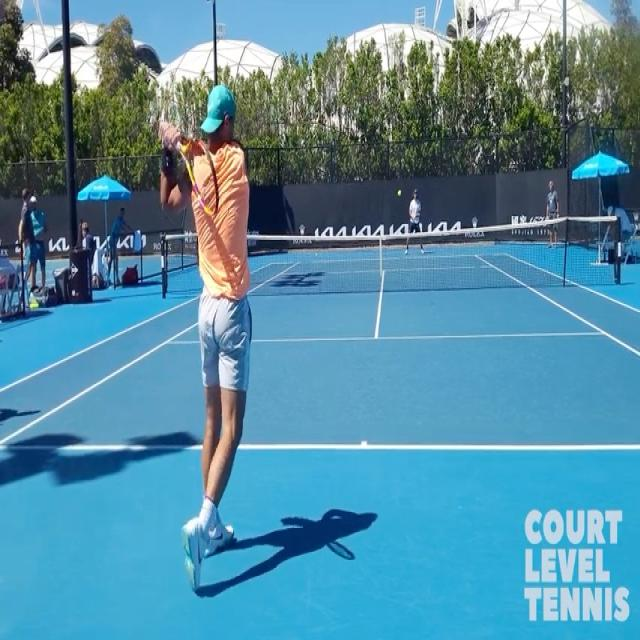backhand-finish: (155, 73, 252, 607)
